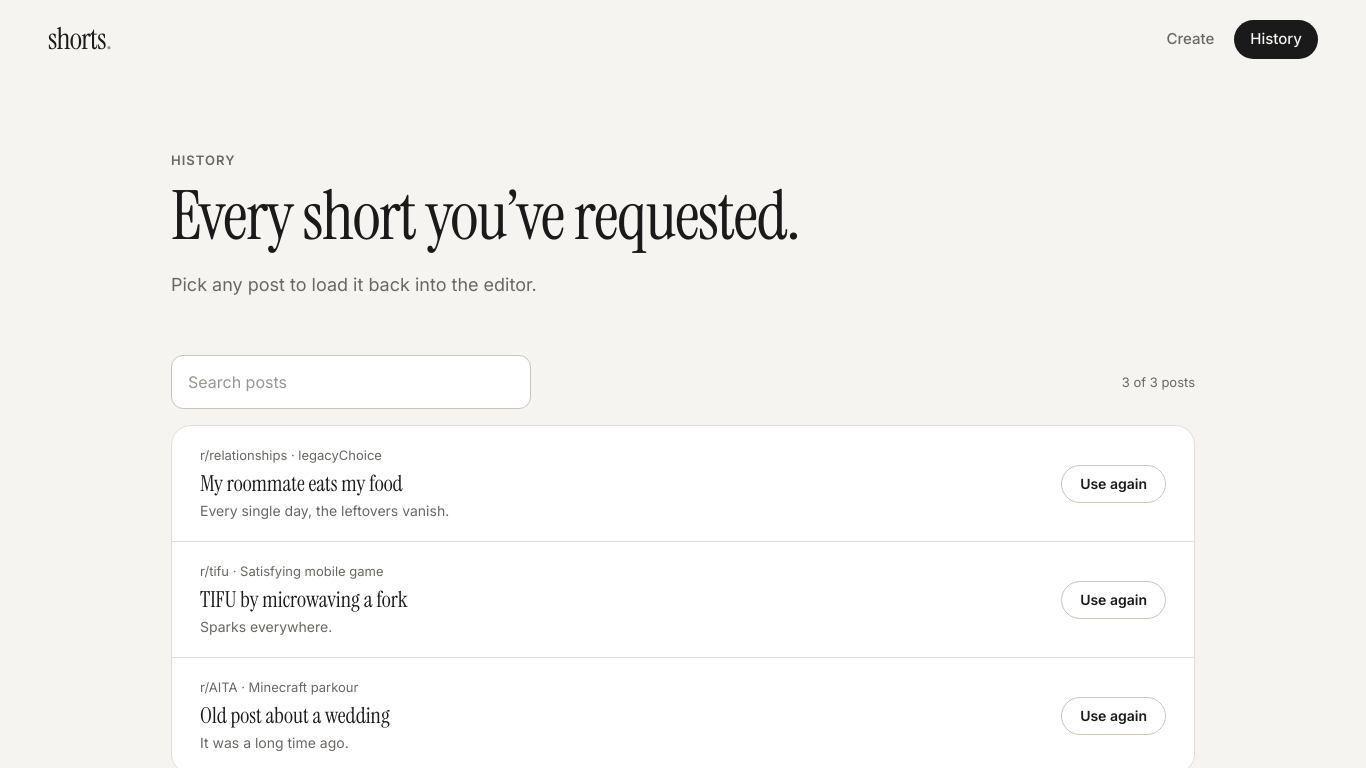
it: search › shows a no-results message
The image size is (1366, 768).
Expected: the heading "TIFU by microwaving a fork" is shown, [200, 585, 408, 614]
Type "zebra" into the search field at (351,382), box [171, 355, 531, 409]
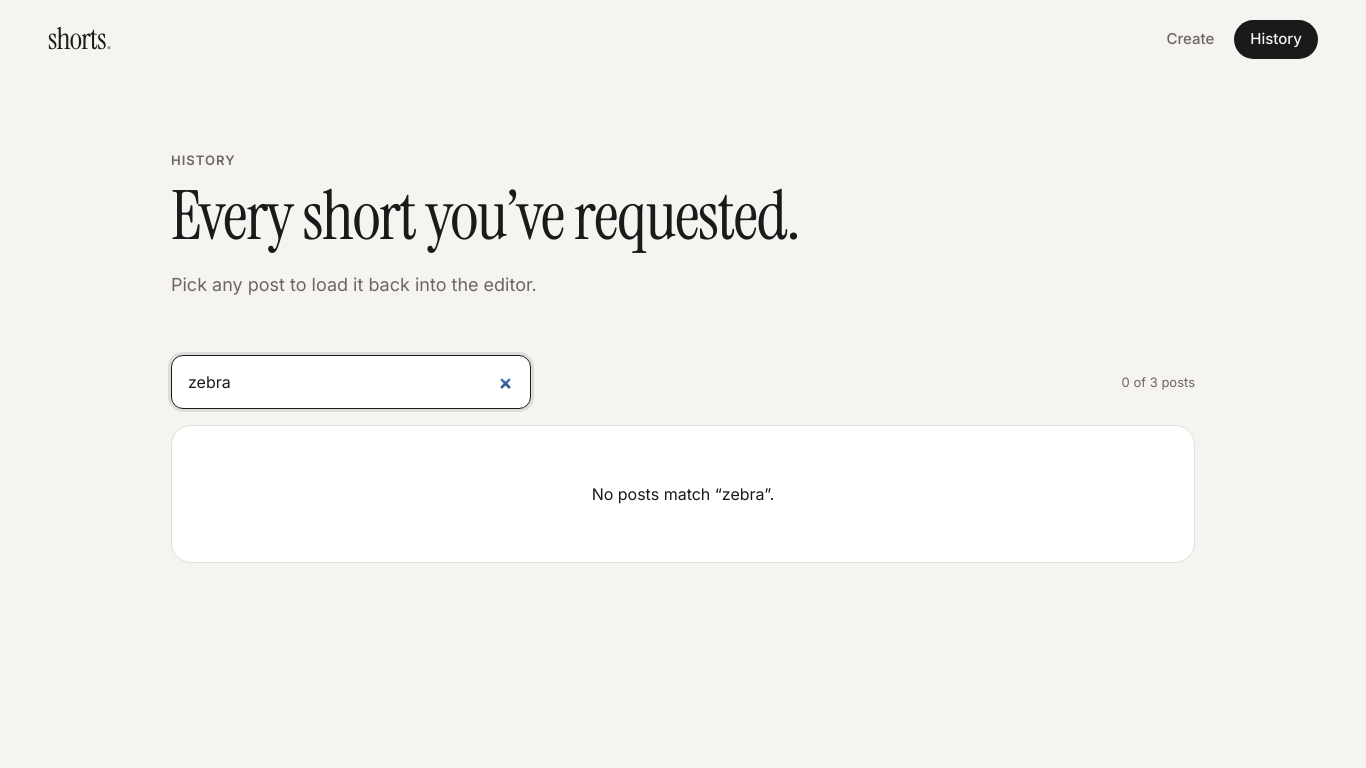
Now the text "No posts match “zebra”." is shown, box [592, 482, 774, 506]
